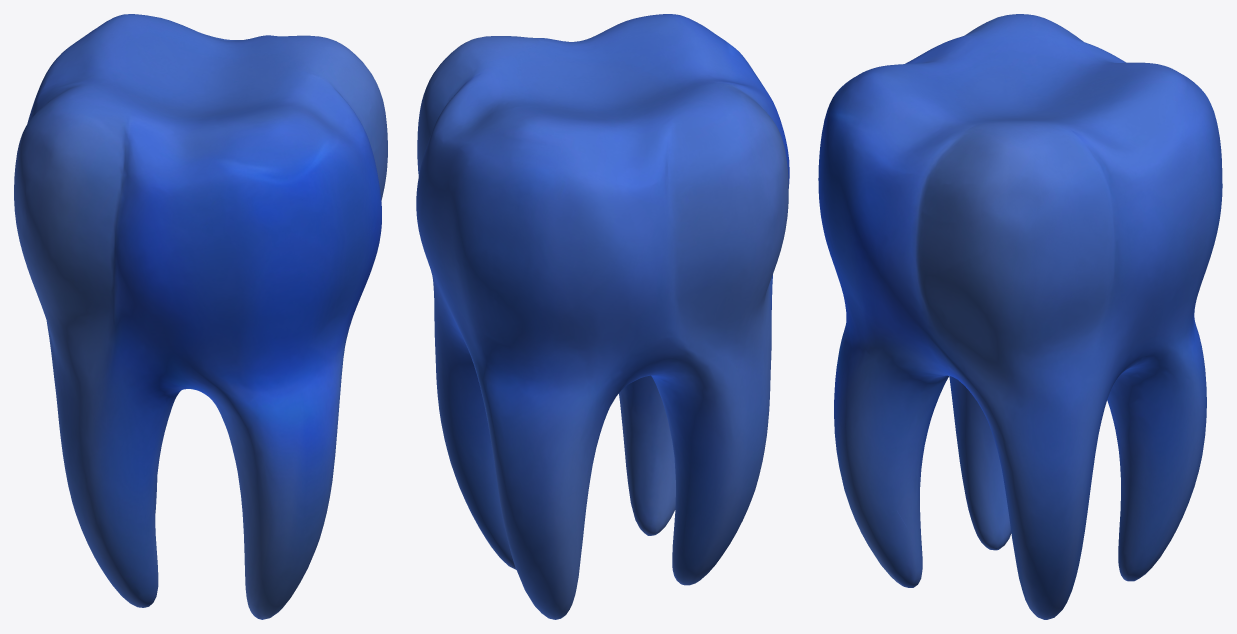
The model's file is tooth.glb.
3 views of the same model, side by side, from view 1: azimuth 30°, elevation 25°; view 2: azimuth 150°, elevation 25°; view 3: azimuth 270°, elevation 25° (orthographic).
Parts seen in each view (by area): view 1: tripo_node_f1a732f5-5e91-4379-b533-96e4faa36fbd; view 2: tripo_node_f1a732f5-5e91-4379-b533-96e4faa36fbd; view 3: tripo_node_f1a732f5-5e91-4379-b533-96e4faa36fbd.
Part boxes in pixels (box(x1,y1,x2,y2)): tripo_node_f1a732f5-5e91-4379-b533-96e4faa36fbd: box(14, 14, 387, 619); tripo_node_f1a732f5-5e91-4379-b533-96e4faa36fbd: box(416, 14, 789, 619); tripo_node_f1a732f5-5e91-4379-b533-96e4faa36fbd: box(818, 14, 1222, 619).
Bounding box in the file's own units: 0.6979 × 0.9798 × 0.7025.
1 material, 1 textured.
